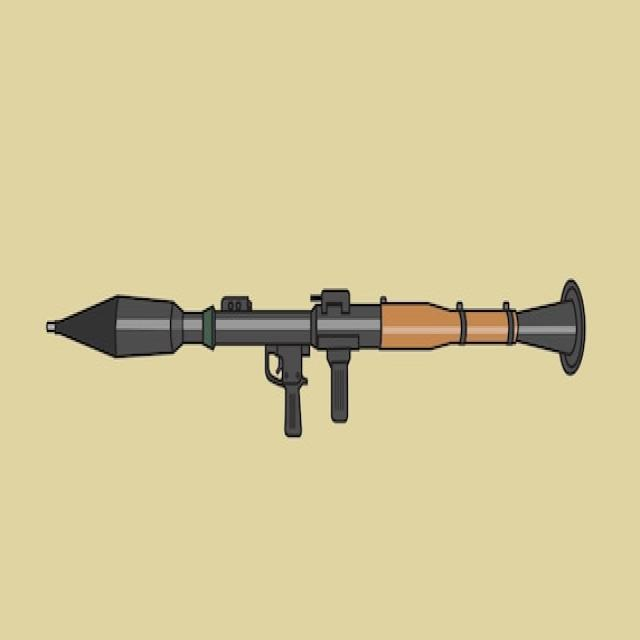Weapon: (47, 280, 585, 435)
